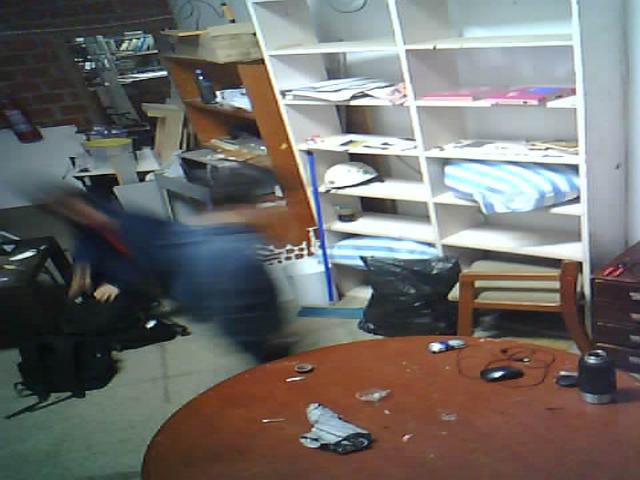person: (22, 161, 195, 327), (179, 159, 303, 385)
